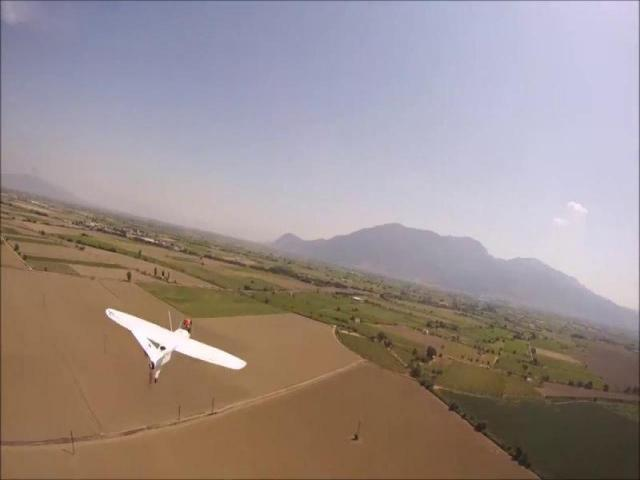hedef: (99, 294, 252, 386)
